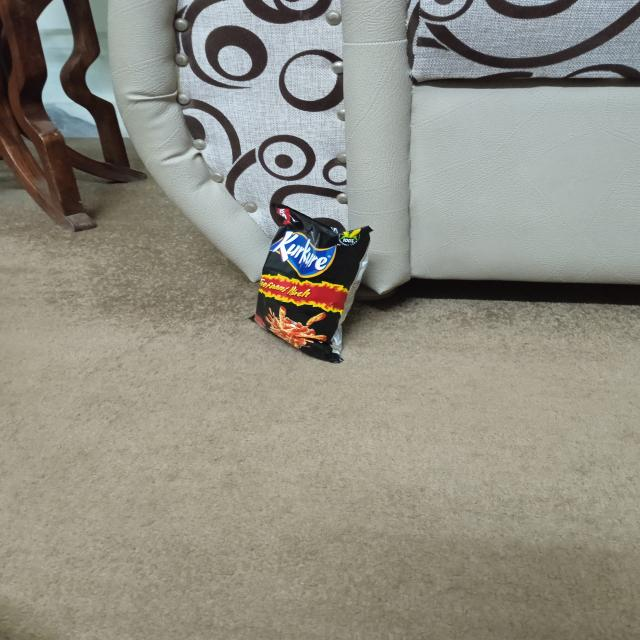Plastic: (250, 206, 378, 364)
